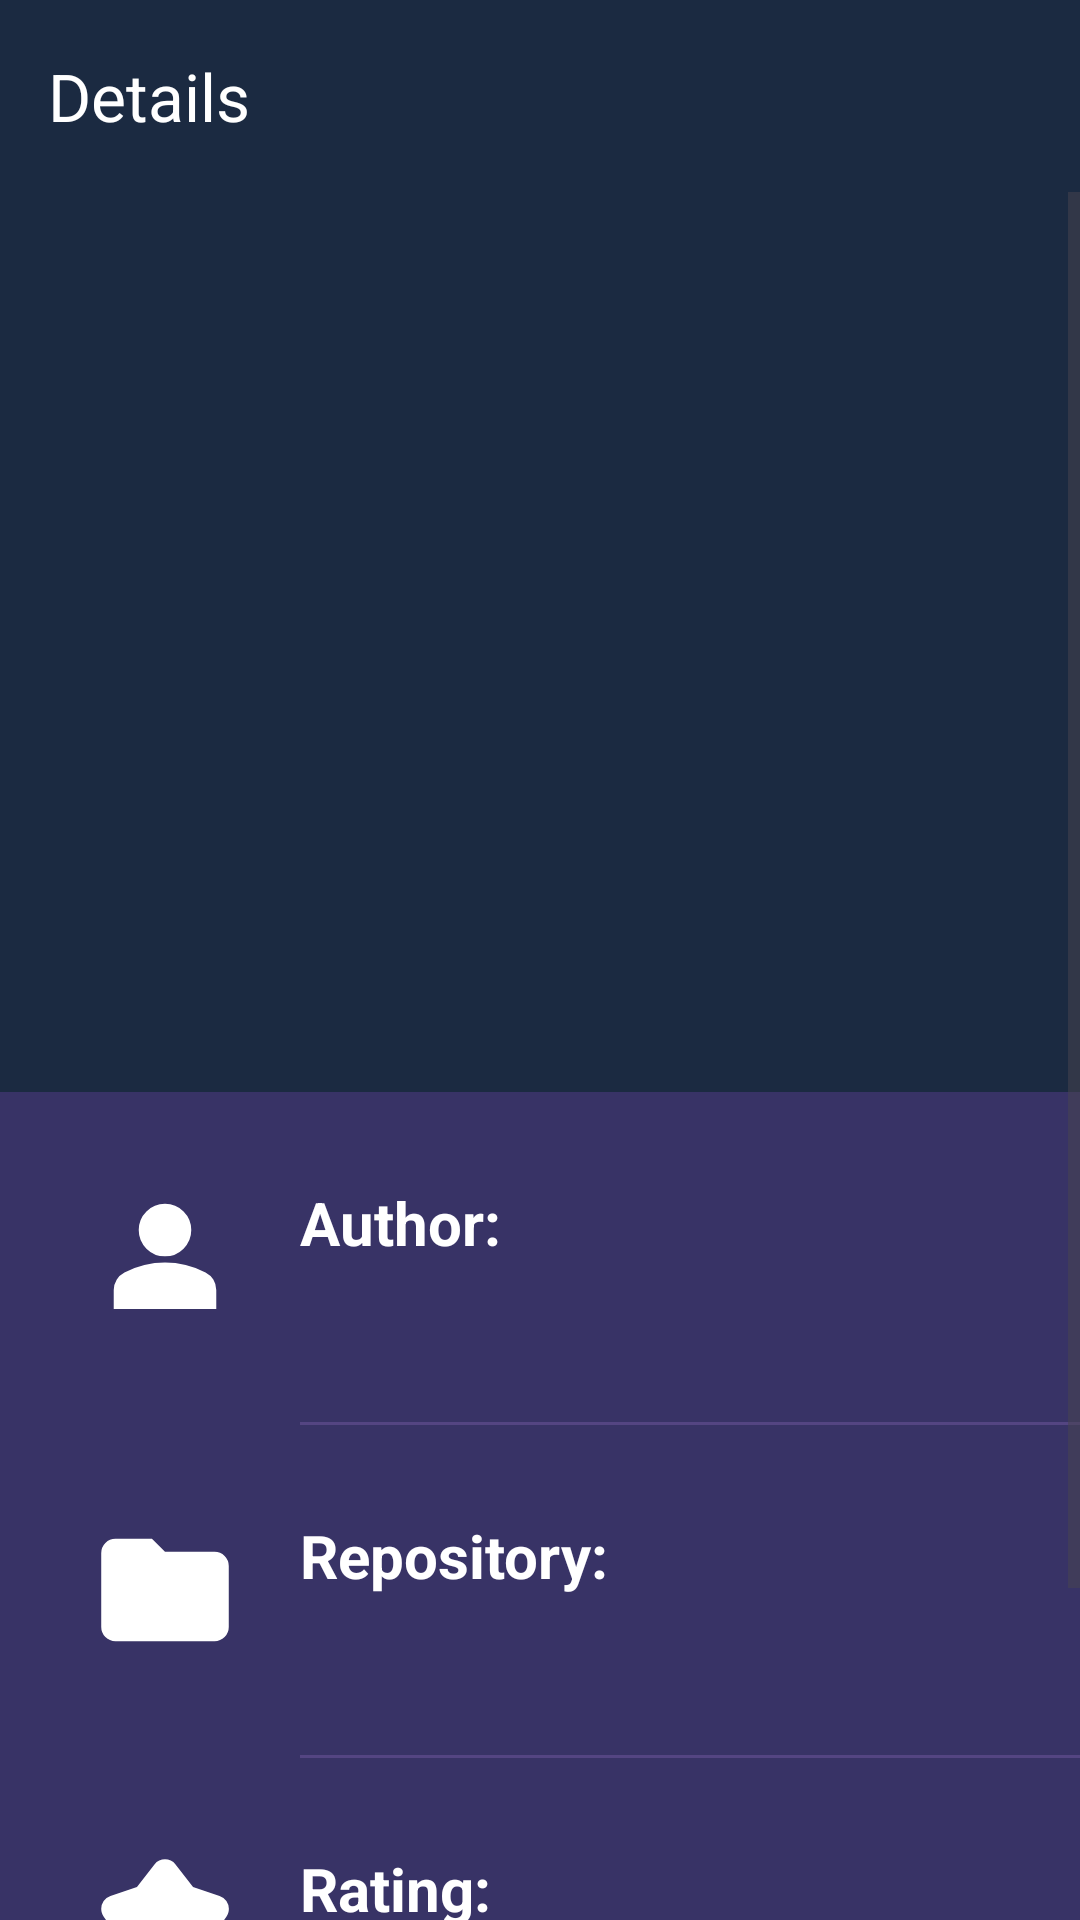

Icons on this 1080w x 1920h Android screen, each with its box as (x1, y1, x2, y2):
perfil: (113, 1203, 217, 1309)
